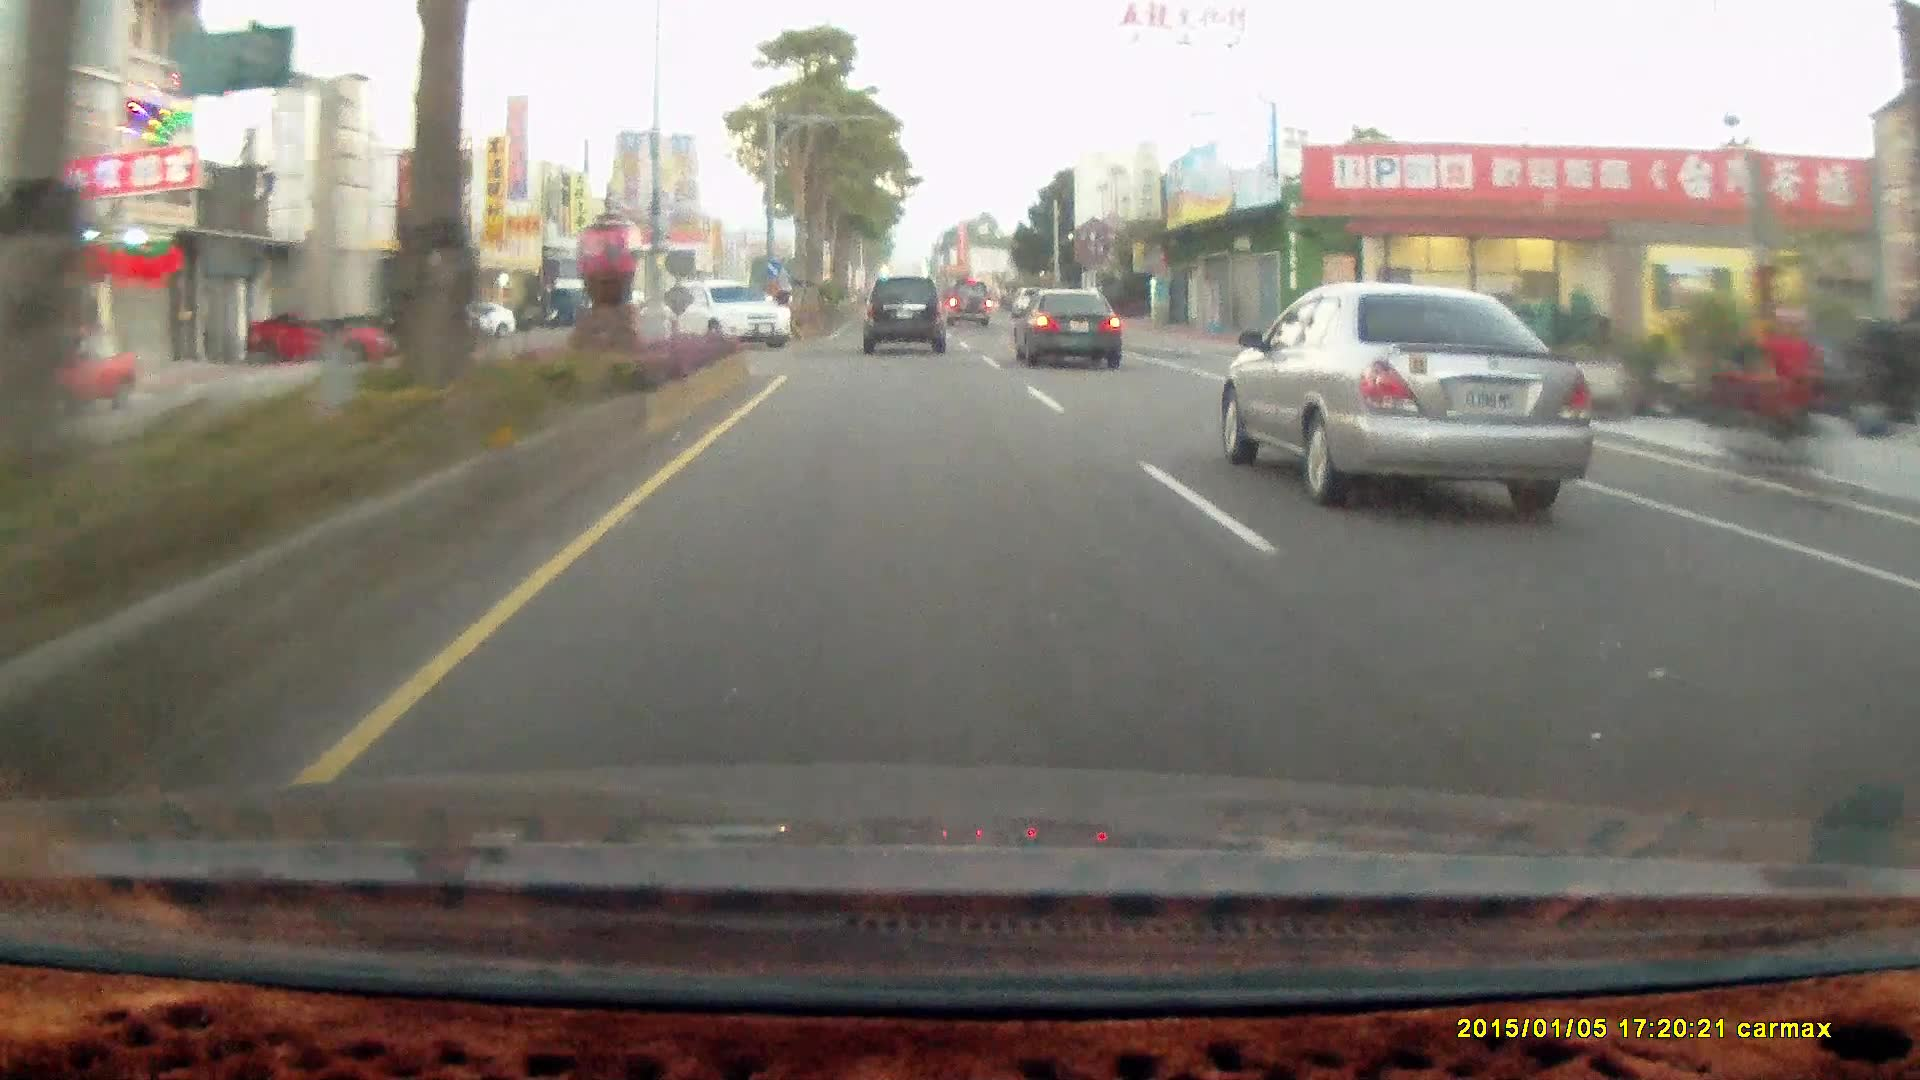pedestrian: (1747, 305, 1825, 500), (1768, 309, 1832, 484)
vehicle: (1240, 281, 1600, 507), (6, 327, 137, 419), (1011, 285, 1129, 372), (658, 279, 792, 350), (240, 307, 403, 364), (1011, 285, 1121, 366), (244, 307, 400, 363), (682, 280, 797, 351), (862, 277, 953, 355), (861, 275, 944, 353), (442, 299, 517, 339), (945, 280, 995, 330), (945, 275, 994, 325)
